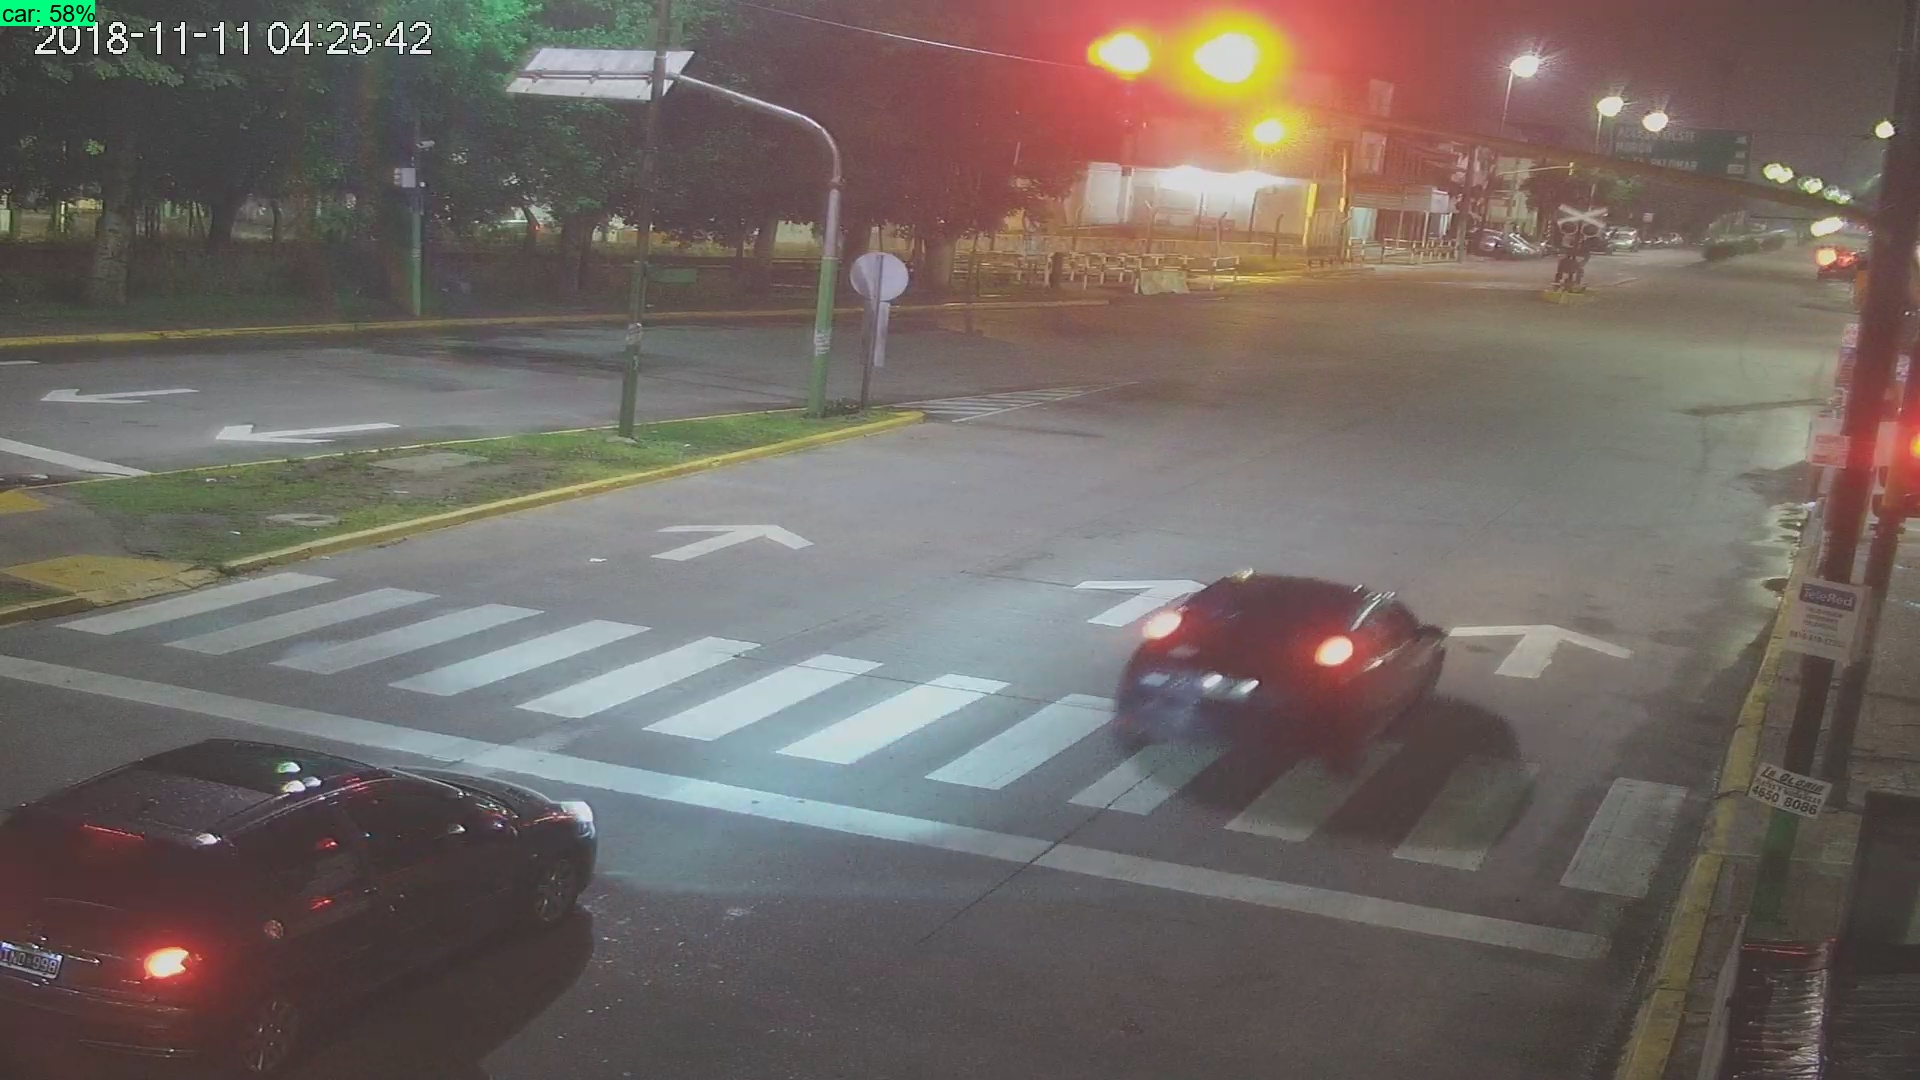car: (4, 725, 611, 1080), (1113, 555, 1451, 761)
